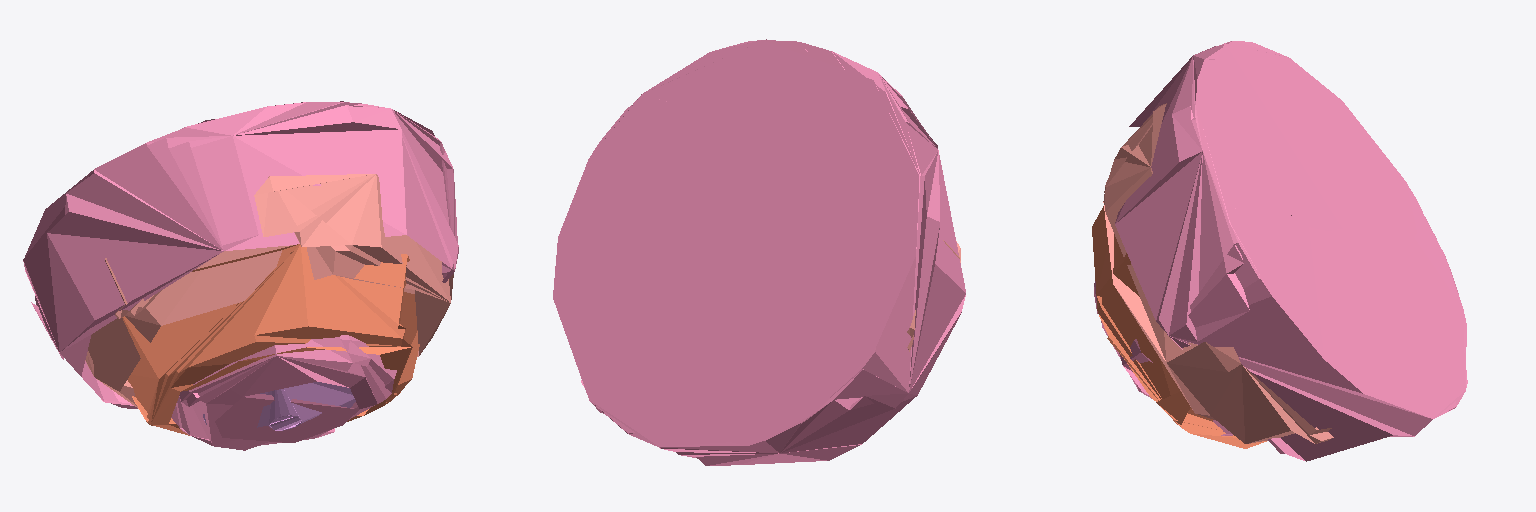
The model's file is DOMELP.obj.
The picture shows the model from 3 angles: view 1: azimuth 30°, elevation 25°; view 2: azimuth 150°, elevation 25°; view 3: azimuth 270°, elevation 25°; orthographic projection.
Parts seen in each view (by area): view 1: dome; view 2: dome; view 3: dome.
Part boxes in pixels (left/top/right/bottom): dome: left=23, top=101, right=458, bottom=450; dome: left=553, top=39, right=965, bottom=465; dome: left=1092, top=41, right=1467, bottom=461.
Bounding box in the file's own units: 19.38 × 18.07 × 16.79.